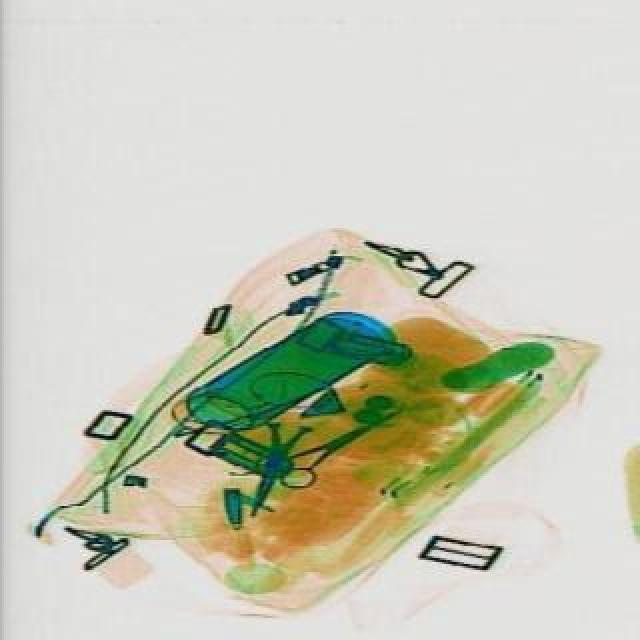pliers: (256, 388, 406, 500)
